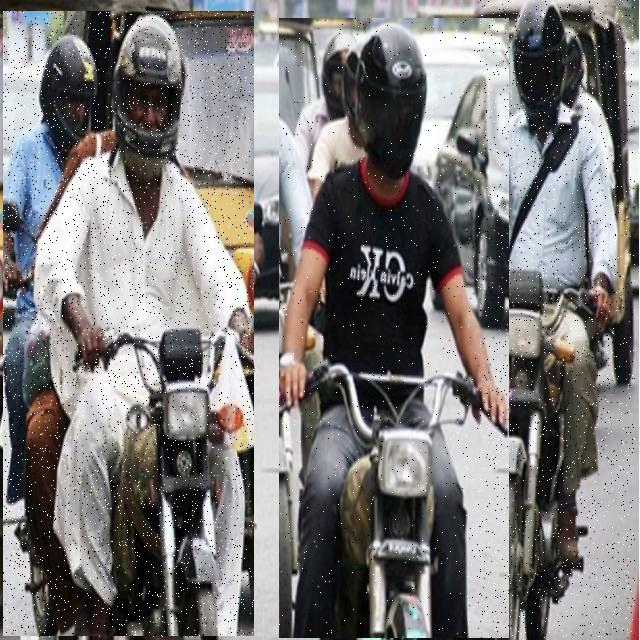With Helmet: (3, 12, 254, 638), (279, 18, 509, 638), (477, 0, 635, 638)
